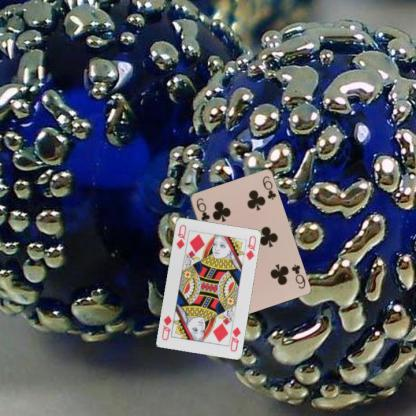6c: (193, 196, 211, 223), (289, 262, 306, 290)
Qd: (225, 322, 242, 352), (174, 222, 188, 250)
